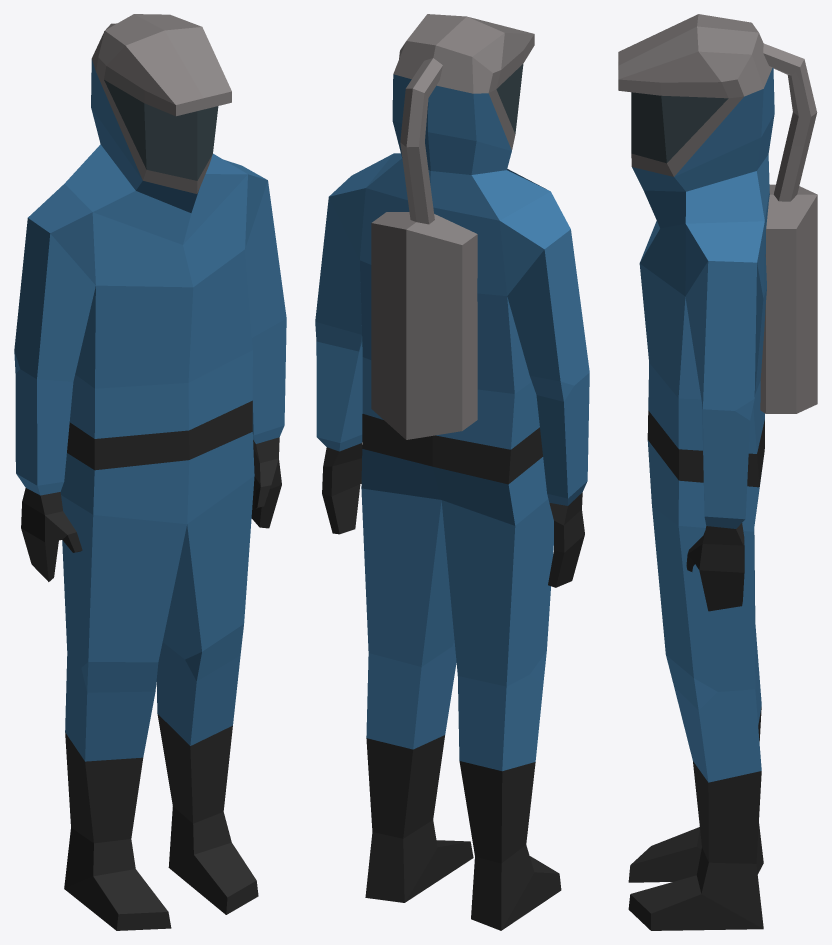
The model's file is people_woman-hazard.fbx.
The picture shows the model from 3 angles, left to right: view 1: azimuth 30°, elevation 25°; view 2: azimuth 150°, elevation 25°; view 3: azimuth 270°, elevation 25°; orthographic projection.
Visible parts, largest first — view 1: people_woman_hazard; view 2: people_woman_hazard; view 3: people_woman_hazard.
Boxes of the visible parts, box(x1,y1,x2,y2) form: people_woman_hazard: box(14, 14, 286, 930); people_woman_hazard: box(315, 14, 589, 930); people_woman_hazard: box(618, 14, 817, 930).
Size of the model in its own units: 60.63 by 200 by 41.54.
